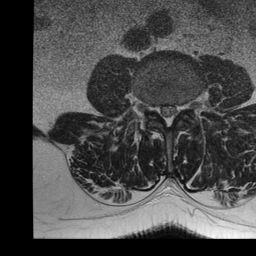CCS_normal: (164, 98, 172, 134)
LFS_stenosis: (181, 95, 189, 117)
LLS_normal: (173, 98, 181, 122)
RFS_stenosis: (148, 96, 155, 120)
RLS_normal: (155, 96, 164, 123)
